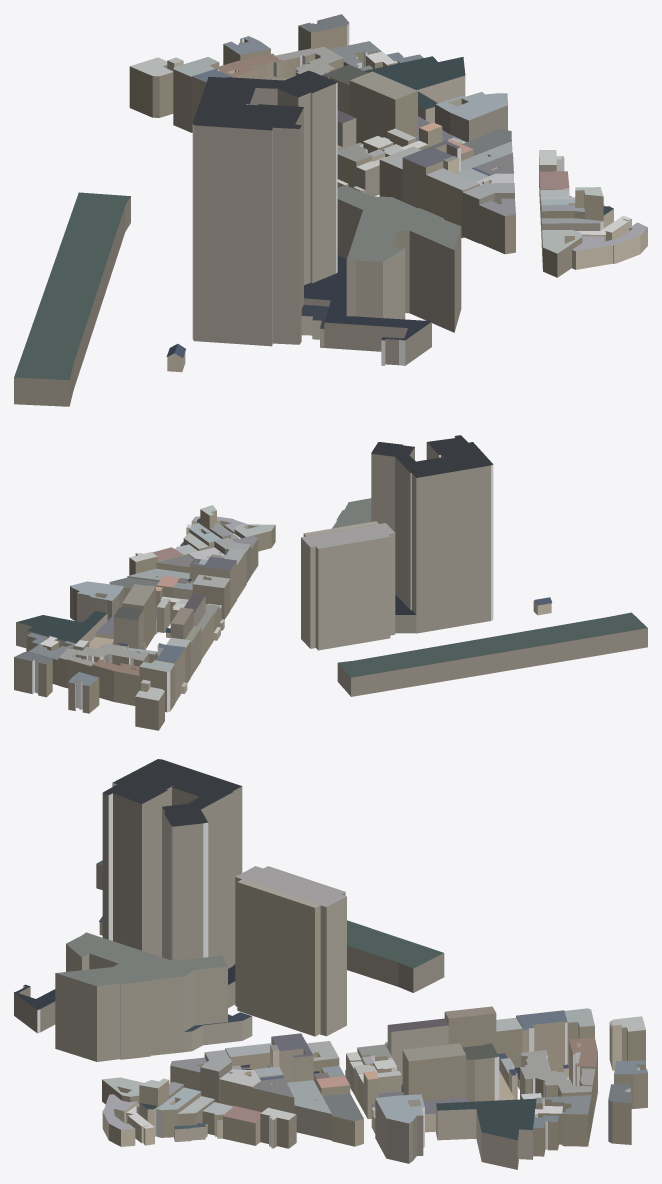
3 renders of one model, top to bottom at view 1: azimuth 30°, elevation 25°; view 2: azimuth 150°, elevation 25°; view 3: azimuth 270°, elevation 25°, orthographic. The views are drawn at different scales.
Parts seen in each view (by area): view 1: tuile; view 2: tuile; view 3: tuile.
Part boxes in pixels (box(x1,y1,x2,y2)): tuile: box(14, 14, 647, 406); tuile: box(14, 435, 647, 730); tuile: box(14, 759, 647, 1169).
Size of the model in its own units: 332 by 108 by 300.
